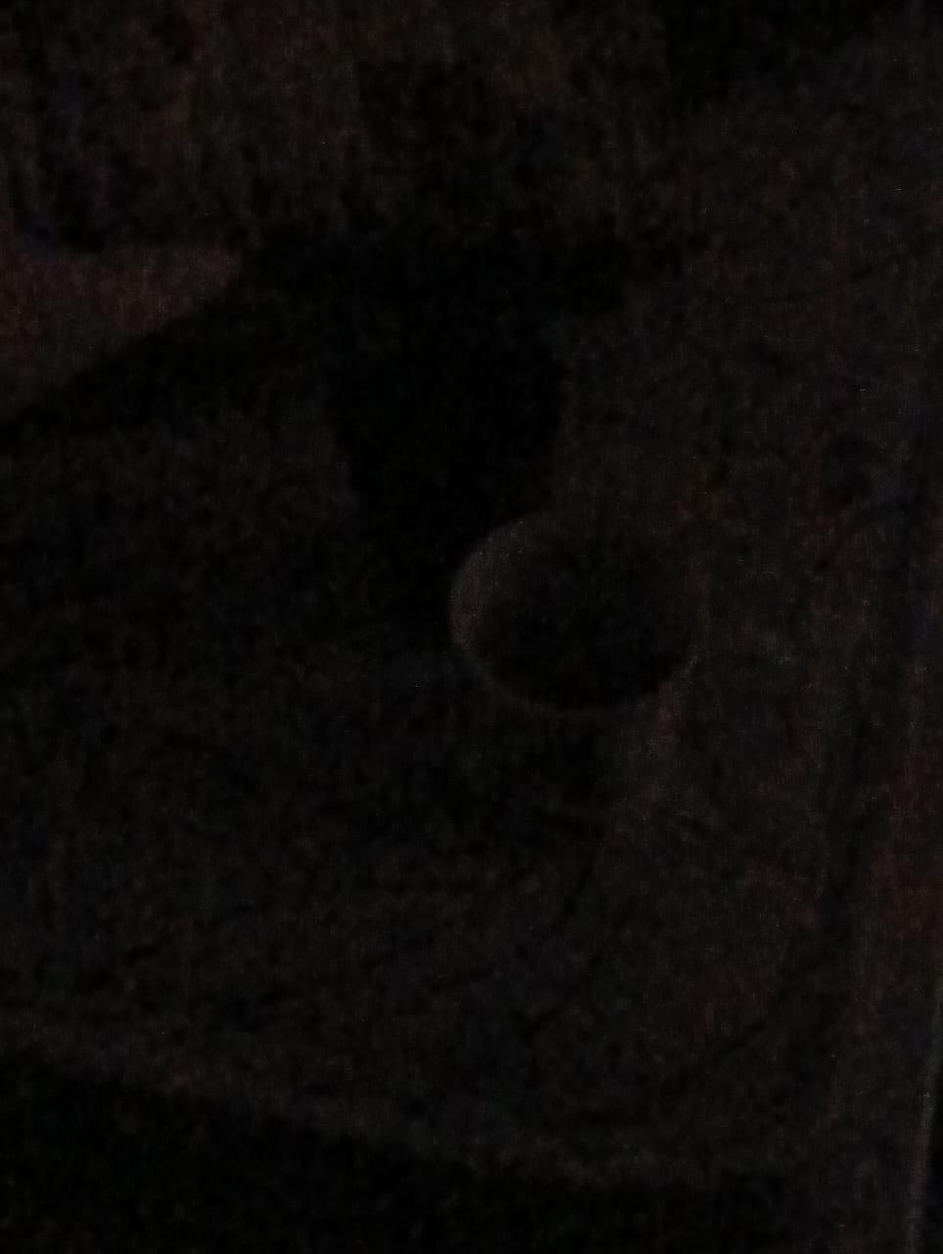cup: (445, 505, 811, 871), (448, 519, 711, 742)
